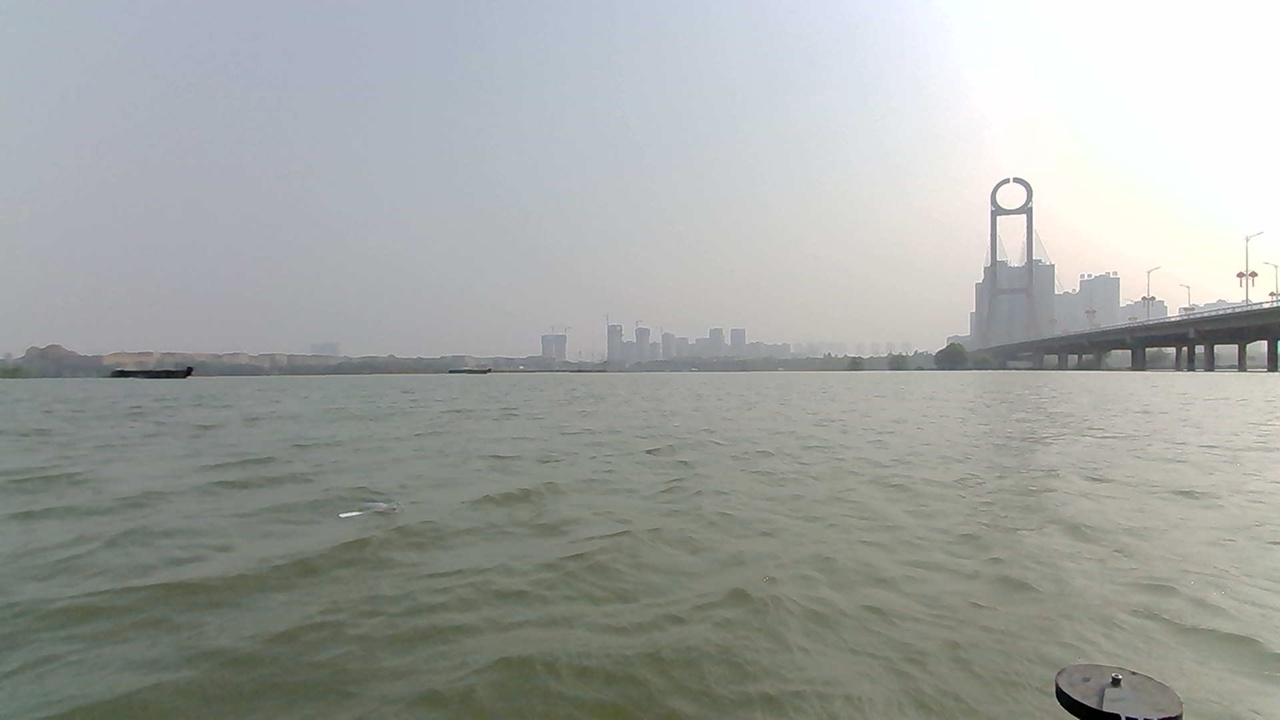bottle: (303, 485, 426, 538)
